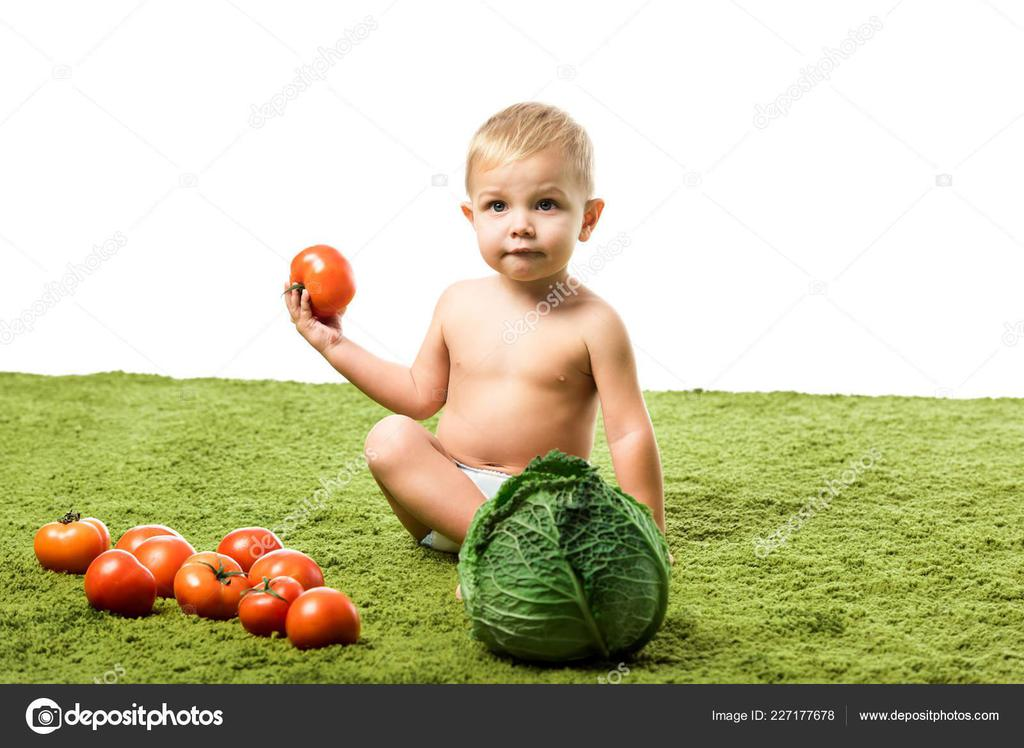child: (276, 96, 692, 568)
